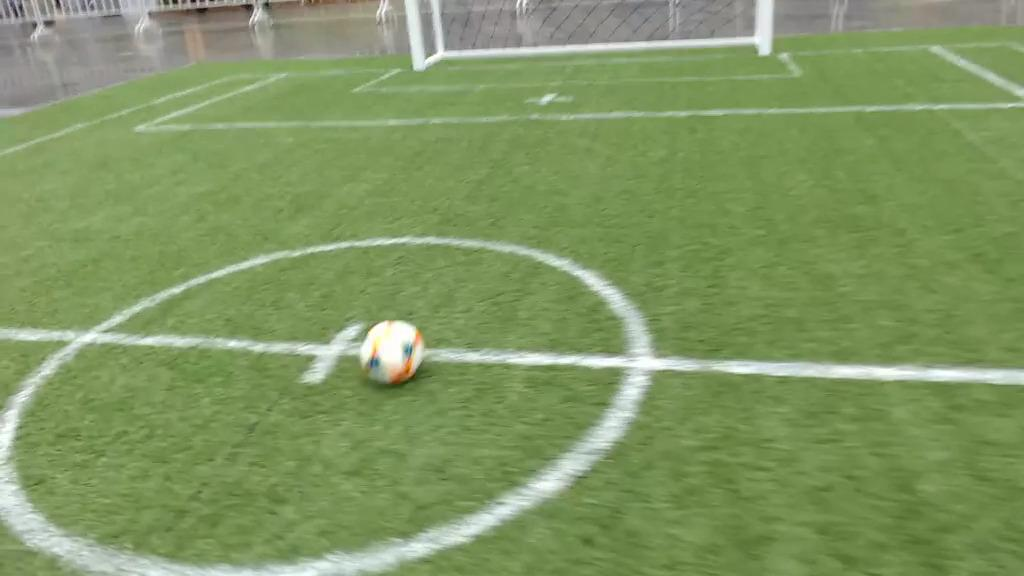ball: (362, 320, 420, 384)
